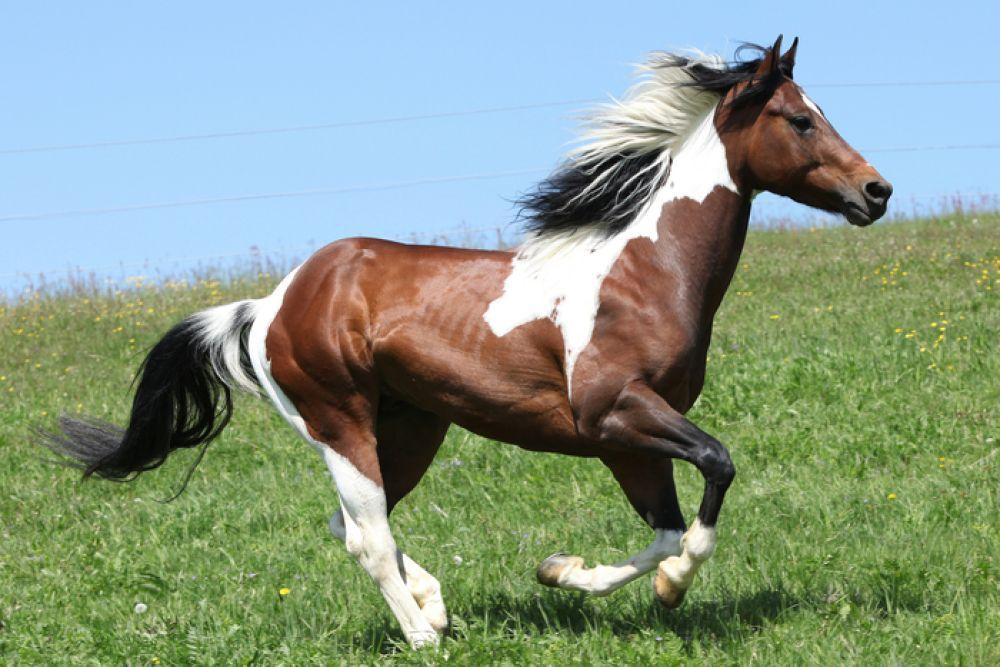horse: (12, 29, 897, 655)
